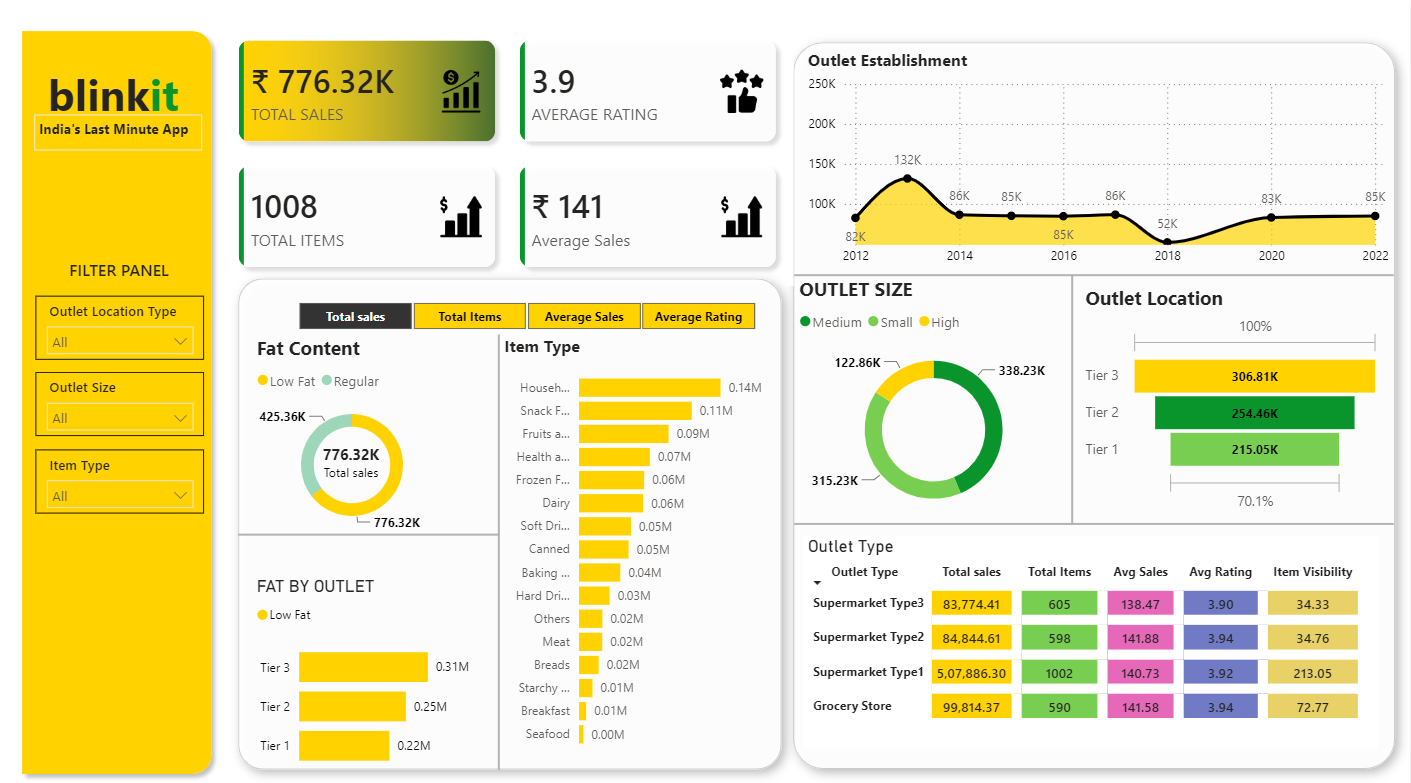

The page's visual inventory and layout, read from the dashboard file:
{"tool":"powerbi","page":{"name":"Page 1","canvas":[1400,800],"ordinal":0},"visuals":[{"type":"shape","box":[775.6,30,624.4,747.8],"z":0},{"type":"cardVisual","fields":{"Data":["Sum(BlinkIT Grocery Data.Total Sales)","BlinkIT Grocery Data.Total Items","Avg(BlinkIT Grocery Data.Rating)","BlinkIT Grocery Data.AVERAGE SALES"]},"box":[226.4,25.4,564.7,259.4],"z":1000},{"type":"shape","box":[226.7,263.3,566.7,515],"z":2000},{"type":"shape","box":[20,25,205,751.7],"z":3000},{"type":"textbox","box":[49.5,61.5,150.1,81],"z":4000},{"type":"textbox","box":[40.5,115.6,166.6,36],"z":5000},{"type":"donutChart","title":"Fat Content","fields":{"Y":["BlinkIT Grocery Data.Total sales"],"Category":["BlinkIT Grocery Data.Item Fat Content"]},"box":[255.6,333.2,198.4,203.5],"z":6000},{"type":"slicer","fields":{"Values":["Metrics.Metrics"]},"box":[276,295.1,499.8,34.3],"z":7000},{"type":"cardVisual","fields":{"Data":["BlinkIT Grocery Data.Total sales"]},"box":[311.6,435,85.2,48.3],"z":8000},{"type":"clusteredBarChart","title":"FAT BY OUTLET","fields":{"Y":["BlinkIT Grocery Data.Total sales"],"Category":["BlinkIT Grocery Data.Outlet Location Type"],"Series":["BlinkIT Grocery Data.Item Fat Content"]},"box":[255,571.7,220,205],"z":9000},{"type":"shape","box":[241.6,526.5,258.2,10.2],"z":10000},{"type":"shape","box":[465,333.3,68.3,430],"z":11000},{"type":"barChart","title":"Item Type","fields":{"Y":["BlinkIT Grocery Data.Total sales"],"Category":["BlinkIT Grocery Data.Item Type"]},"box":[499.8,333.2,264.5,418.4],"z":12000},{"type":"lineChart","title":"Outlet Establishment","fields":{"Category":["BlinkIT Grocery Data.Outlet Establishment Year"],"Y":["BlinkIT Grocery Data.Total sales"]},"box":[800,51.1,583.3,223.3],"z":13000},{"type":"shape","box":[791.1,264.4,592.2,21.1],"z":14000},{"type":"donutChart","title":"OUTLET SIZE","fields":{"Y":["BlinkIT Grocery Data.Total sales"],"Category":["BlinkIT Grocery Data.Outlet Size"]},"box":[791.1,275.6,275.6,250],"z":15000},{"type":"funnel","title":"Outlet Location ","fields":{"Category":["BlinkIT Grocery Data.Outlet Location Type"],"Y":["Sum(BlinkIT Grocery Data.Sales)"]},"box":[1074.4,284.4,301.1,228.9],"z":16000},{"type":"pivotTable","title":"Outlet Type","fields":{"Rows":["BlinkIT Grocery Data.Outlet Type"],"Values":["BlinkIT Grocery Data.Total sales","BlinkIT Grocery Data.Total Items","BlinkIT Grocery Data.Average Sales","BlinkIT Grocery Data.Average Rating","Sum(BlinkIT Grocery Data.Item Visibility)"]},"box":[800,531.7,568.3,210],"z":17000},{"type":"shape","box":[791.1,510,592.2,21.1],"z":18000},{"type":"shape","box":[1031.1,274.4,70,246.7],"z":19000},{"type":"slicer","fields":{"Values":["BlinkIT Grocery Data.Outlet Location Type"]},"box":[41.7,295,166.7,63.3],"z":20000},{"type":"slicer","fields":{"Values":["BlinkIT Grocery Data.Outlet Size"]},"box":[41.7,370,166.7,63.3],"z":21000},{"type":"slicer","fields":{"Values":["BlinkIT Grocery Data.Item Type"]},"box":[41.7,446.7,166.7,63.3],"z":22000},{"type":"textbox","box":[63.3,253.3,123.3,58.3],"z":23000}]}

Visuals, with their boxes in screenshot pixels (x1, y1, x2, y2), scaled from the page's 1400x800 canvas onto the 1411x783 screenshot:
shape: [782,29,1410,761]
cardVisual - Sum(BlinkIT Grocery Data.Total Sales) x BlinkIT Grocery Data.Total Items: [228,25,797,279]
shape: [228,258,800,762]
shape: [20,24,227,760]
textbox: [50,60,201,139]
textbox: [41,113,209,148]
"Fat Content" donutChart: [258,326,458,525]
slicer - Metrics.Metrics: [278,289,782,322]
cardVisual - BlinkIT Grocery Data.Total sales: [314,426,400,473]
"FAT BY OUTLET" clusteredBarChart: [257,560,479,760]
shape: [243,515,504,525]
shape: [469,326,537,747]
"Item Type" barChart: [504,326,770,736]
"Outlet Establishment" lineChart: [806,50,1394,269]
shape: [797,259,1394,279]
"OUTLET SIZE" donutChart: [797,270,1075,514]
"Outlet Location " funnel: [1083,278,1386,502]
"Outlet Type" pivotTable: [806,520,1379,726]
shape: [797,499,1394,520]
shape: [1039,269,1110,510]
slicer - BlinkIT Grocery Data.Outlet Location Type: [42,289,210,351]
slicer - BlinkIT Grocery Data.Outlet Size: [42,362,210,424]
slicer - BlinkIT Grocery Data.Item Type: [42,437,210,499]
textbox: [64,248,188,305]
